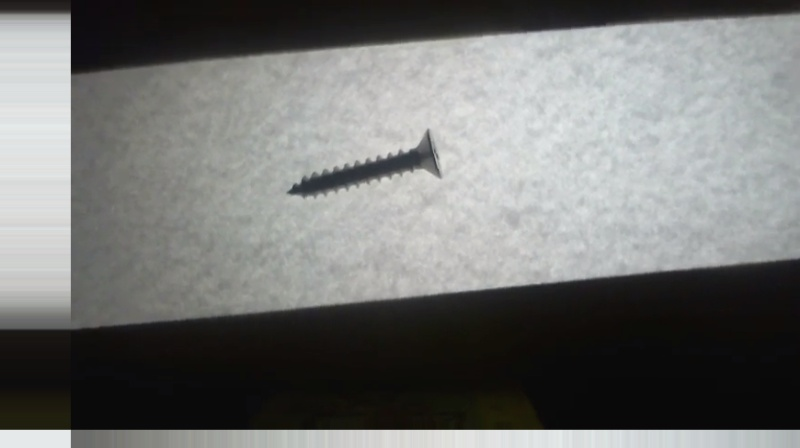S001: (281, 126, 444, 206)
